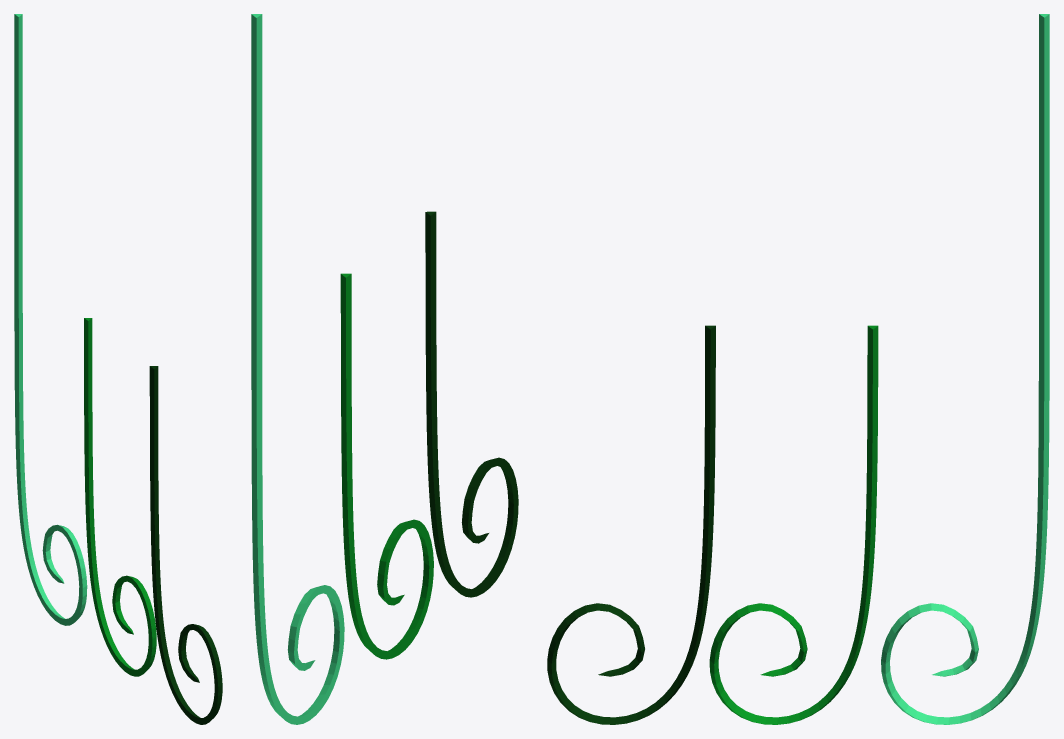
The model's file is tuta_02.fbx.
3 renders of one model, left to right at view 1: azimuth 30°, elevation 25°; view 2: azimuth 150°, elevation 25°; view 3: azimuth 270°, elevation 25°, orthographic. The views are drawn at different scales.
Visible parts, largest first — view 1: polySurface13, polySurface12, polySurface11; view 2: polySurface13, polySurface12, polySurface11; view 3: polySurface13, polySurface11, polySurface12.
Boxes of the visible parts, x1=… form: polySurface13: x1=14, y1=14, x2=87, y2=625; polySurface12: x1=149, y1=366, x2=222, y2=724; polySurface11: x1=84, y1=318, x2=156, y2=676; polySurface13: x1=251, y1=14, x2=344, y2=724; polySurface12: x1=425, y1=211, x2=518, y2=597; polySurface11: x1=340, y1=273, x2=433, y2=659; polySurface13: x1=881, y1=14, x2=1049, y2=724; polySurface11: x1=709, y1=325, x2=878, y2=724; polySurface12: x1=547, y1=325, x2=715, y2=724.
Size of the model in its own units: 6.84 by 576 by 369.
